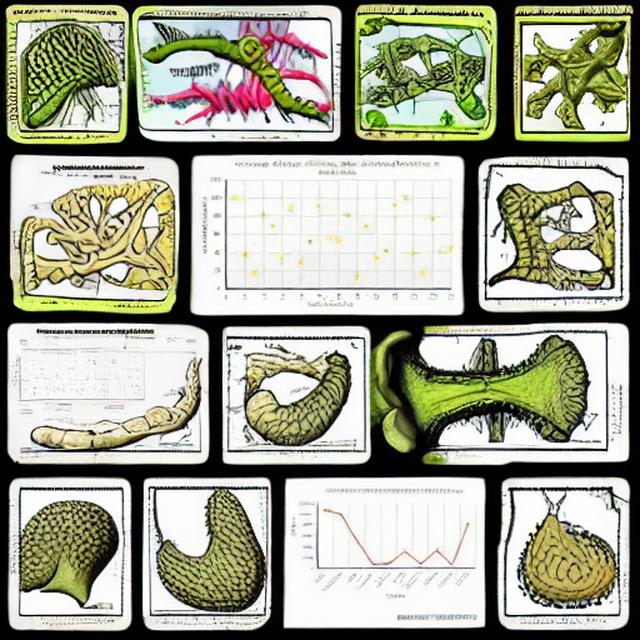Graph: (200, 158, 458, 311), (287, 480, 481, 605), (9, 347, 112, 408)
